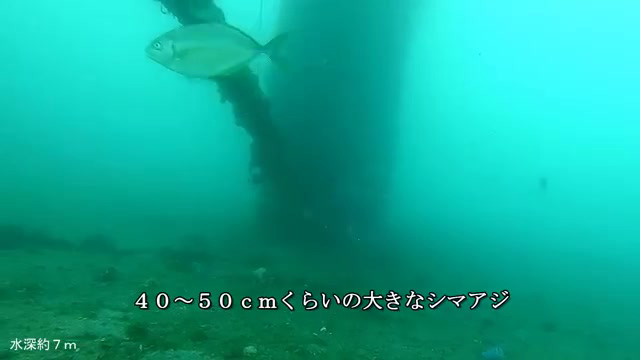hamati: (139, 13, 303, 101)
